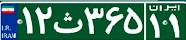character: (52, 10, 84, 36), (83, 4, 105, 38), (123, 4, 144, 39), (33, 4, 53, 39), (104, 4, 124, 38), (18, 4, 35, 39), (167, 12, 185, 40), (148, 13, 162, 40)
